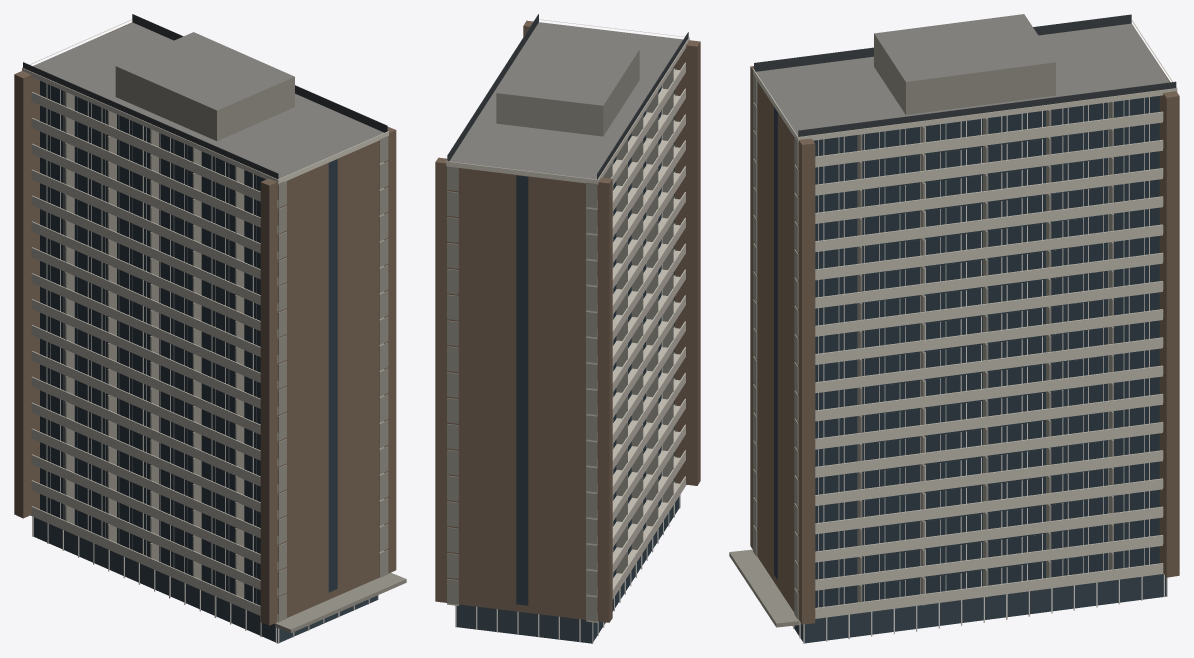
The model's file is campden_hill_towers.glb.
3 renders of one model, left to right at view 1: azimuth 30°, elevation 25°; view 2: azimuth 150°, elevation 25°; view 3: azimuth 270°, elevation 25°, orthographic. The views are drawn at different scales.
Bounding box in the file's own units: 30.09 × 62 × 46.3.
